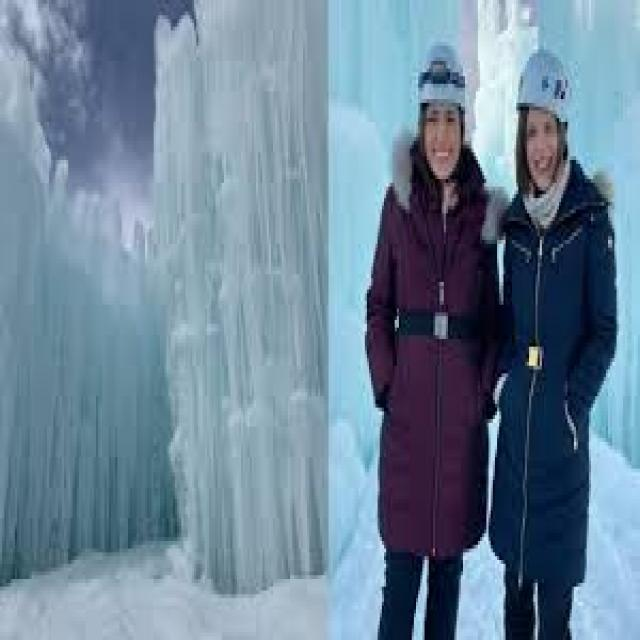Jacket: (366, 147, 487, 556), (498, 174, 597, 577)
